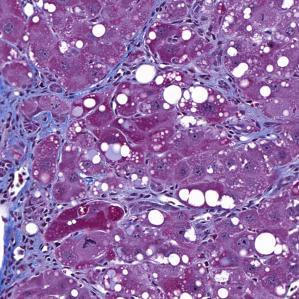fibrosis: (166, 50, 272, 145), (1, 82, 80, 186)
